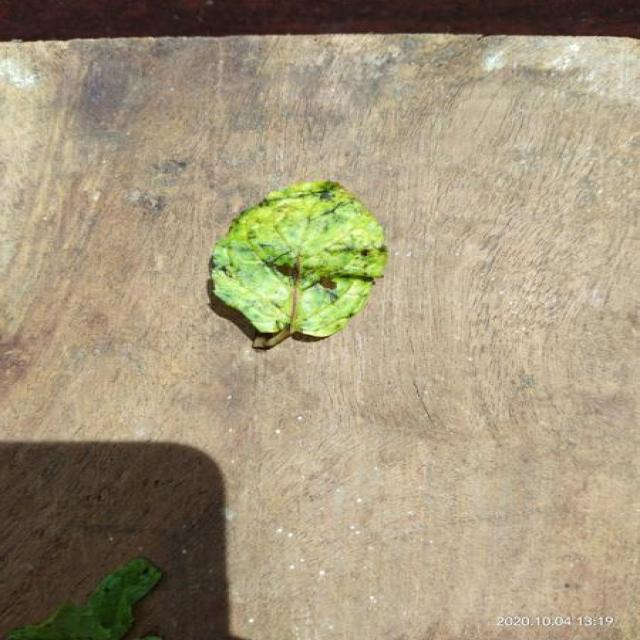mint: (213, 181, 387, 348)
